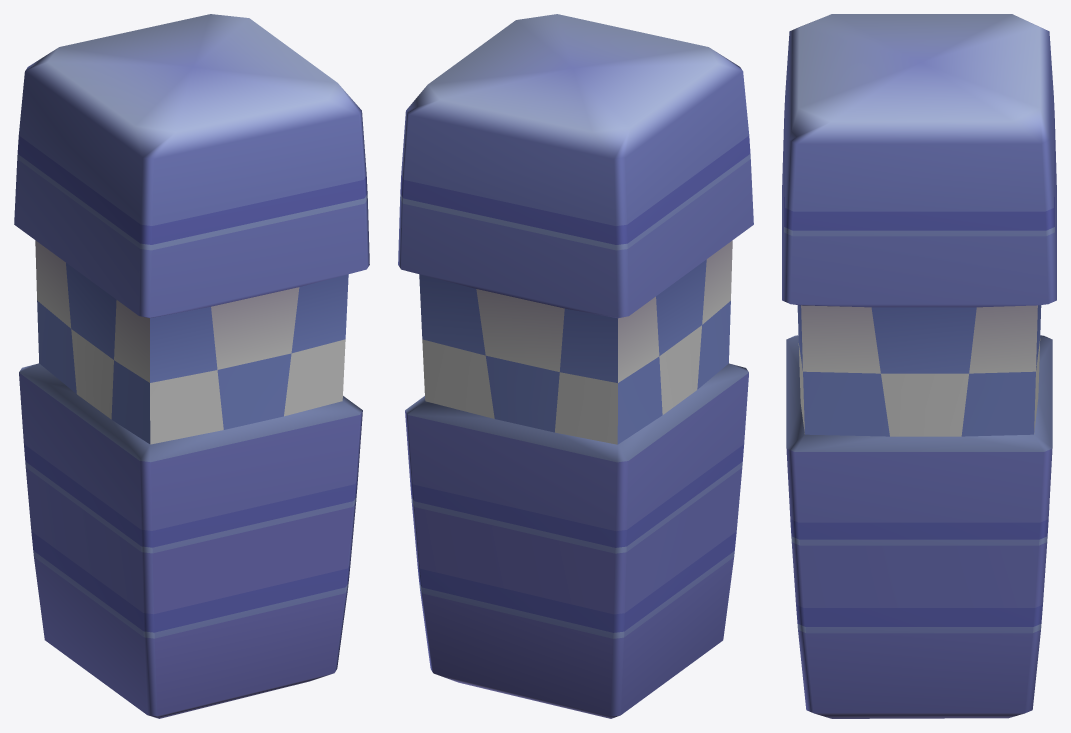
The model's file is BlueColumn.glb.
3 renders of one model, left to right at view 1: azimuth 30°, elevation 25°; view 2: azimuth 150°, elevation 25°; view 3: azimuth 270°, elevation 25°, orthographic. The views are drawn at different scales.
Visible parts, largest first — view 1: BlueColumn; view 2: BlueColumn; view 3: BlueColumn.
Boxes of the visible parts, x1=… form: BlueColumn: x1=14, y1=14, x2=369, y2=718; BlueColumn: x1=398, y1=14, x2=753, y2=718; BlueColumn: x1=782, y1=14, x2=1056, y2=718.
Size of the model in its own units: 0.5996 by 1.49 by 0.5998.
